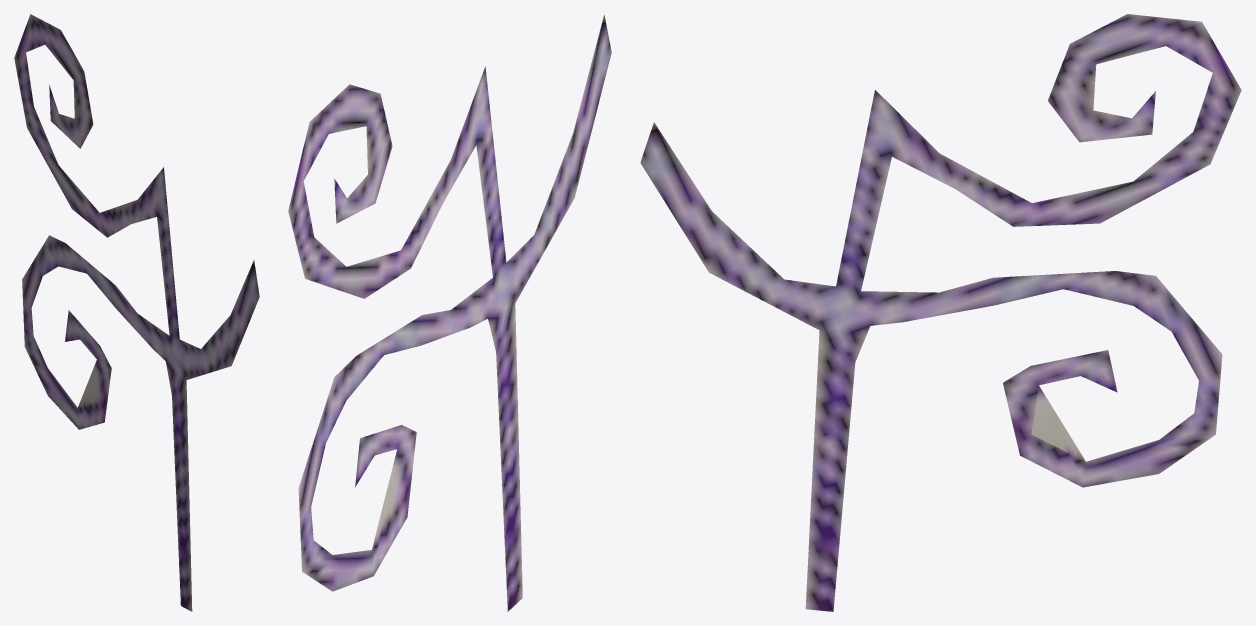
3 views of the same model, side by side, from view 1: azimuth 30°, elevation 25°; view 2: azimuth 150°, elevation 25°; view 3: azimuth 270°, elevation 25° (orthographic). The views are drawn at different scales.
Visible parts, largest first — view 1: Picsart_22-01-21_15-37-57-171.002; view 2: Picsart_22-01-21_15-37-57-171.002; view 3: Picsart_22-01-21_15-37-57-171.002.
Boxes of the visible parts, bbox=[...] form: Picsart_22-01-21_15-37-57-171.002: bbox=[14, 14, 259, 611]; Picsart_22-01-21_15-37-57-171.002: bbox=[288, 15, 611, 611]; Picsart_22-01-21_15-37-57-171.002: bbox=[640, 14, 1241, 611].
Size of the model in its own units: 6.02e-08 by 1.43 by 1.3.
Materials: 1 (1 with a texture image).
